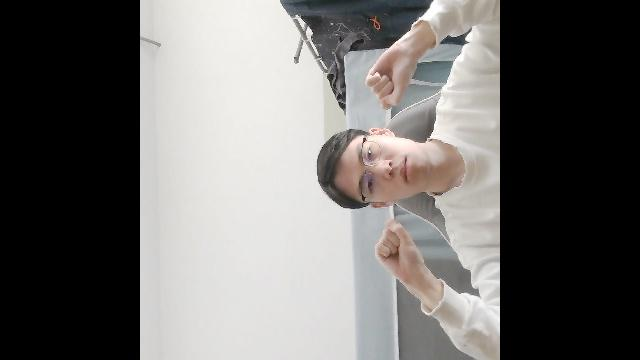ten: (364, 27, 426, 113), (373, 215, 432, 298)
